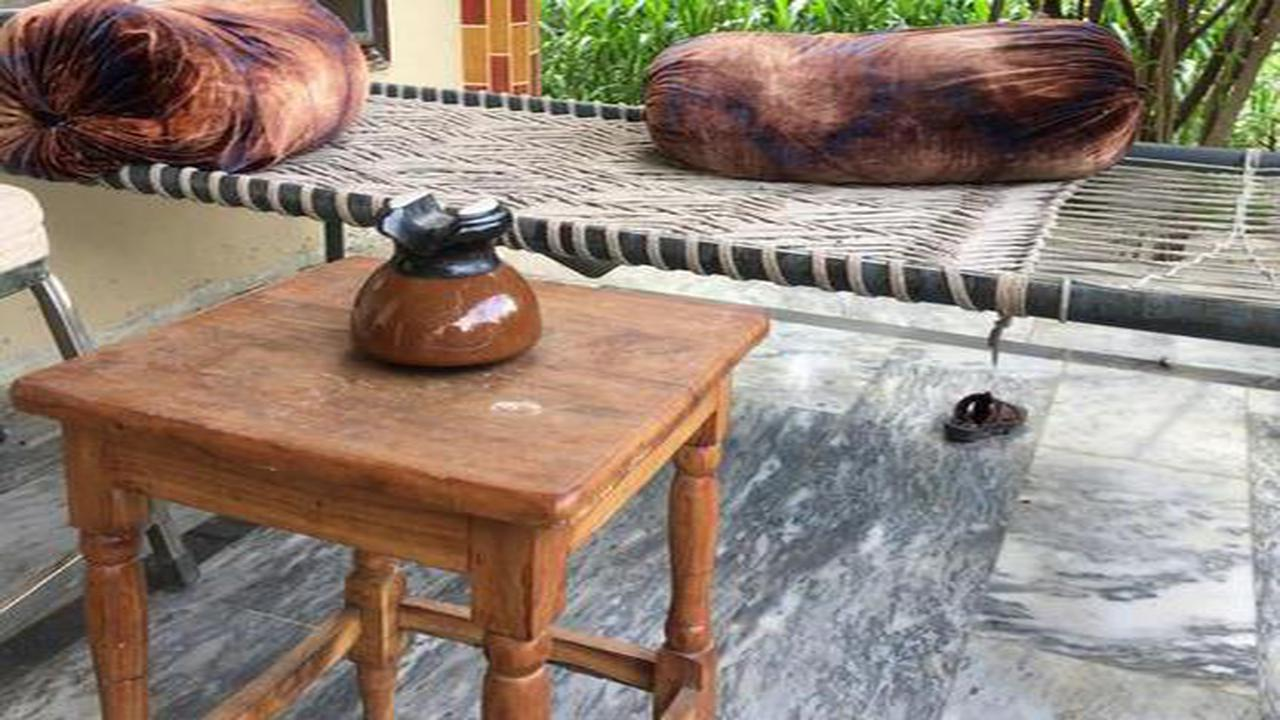insulator_pin: (333, 184, 554, 378)
